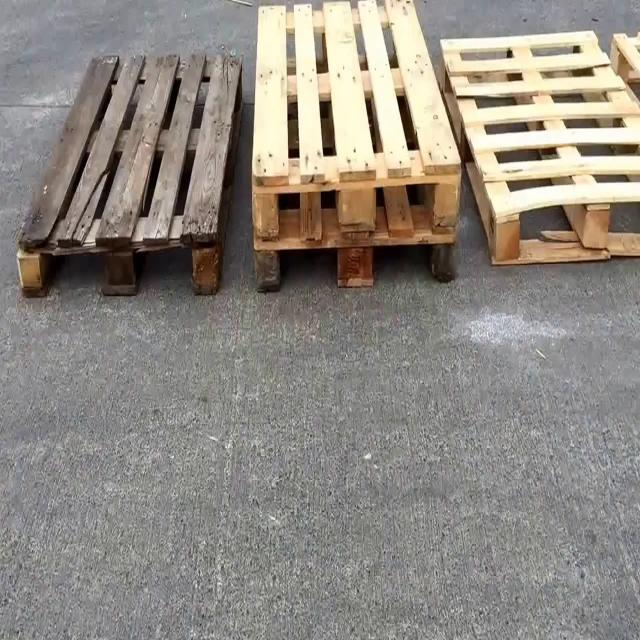Palette: (10, 43, 247, 314), (246, 0, 464, 292), (431, 20, 640, 280), (608, 21, 640, 86)
